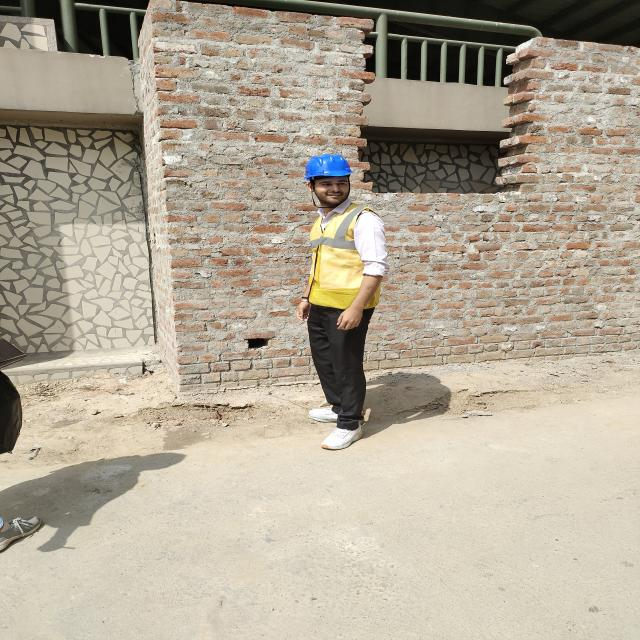safe: (297, 154, 388, 450)
